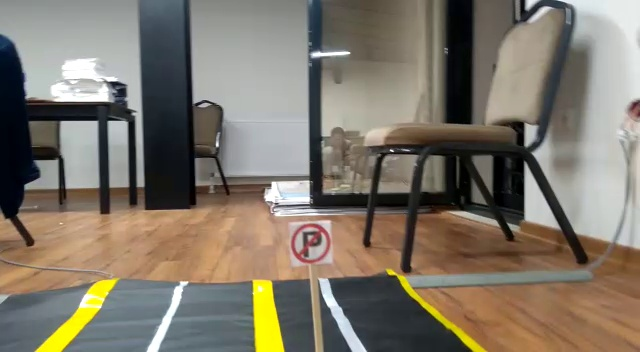park_yapilmaz: (290, 222, 334, 266)
